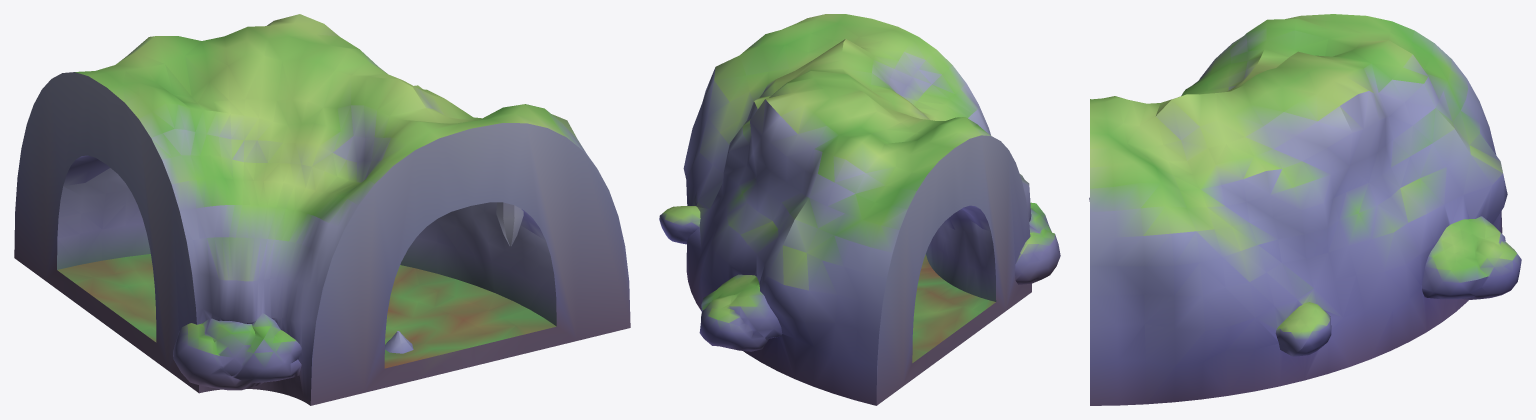
File: verdant_cave_curve.glb
3 views of the same model, side by side, from view 1: azimuth 30°, elevation 25°; view 2: azimuth 150°, elevation 25°; view 3: azimuth 270°, elevation 25° (orthographic). The views are drawn at different scales.
Visible parts, largest first — view 1: verdant_cave_curve; view 2: verdant_cave_curve; view 3: verdant_cave_curve.
Part boxes in pixels (bbox=[...]): verdant_cave_curve: bbox=[14, 14, 630, 405]; verdant_cave_curve: bbox=[659, 14, 1060, 405]; verdant_cave_curve: bbox=[1089, 14, 1521, 405].
Bounding box in the file's own units: 13.43 × 8.01 × 13.32.
